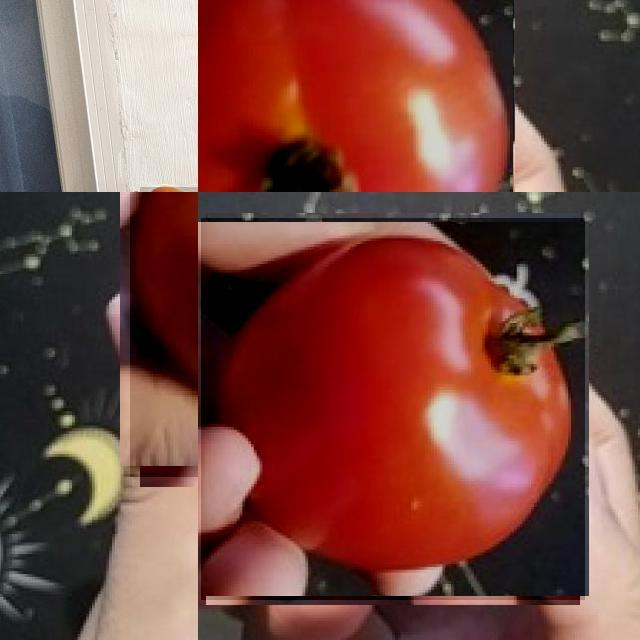Fresh Tomato: (201, 218, 585, 600), (198, 0, 514, 192)
Rotten Tomato: (129, 192, 198, 476)
